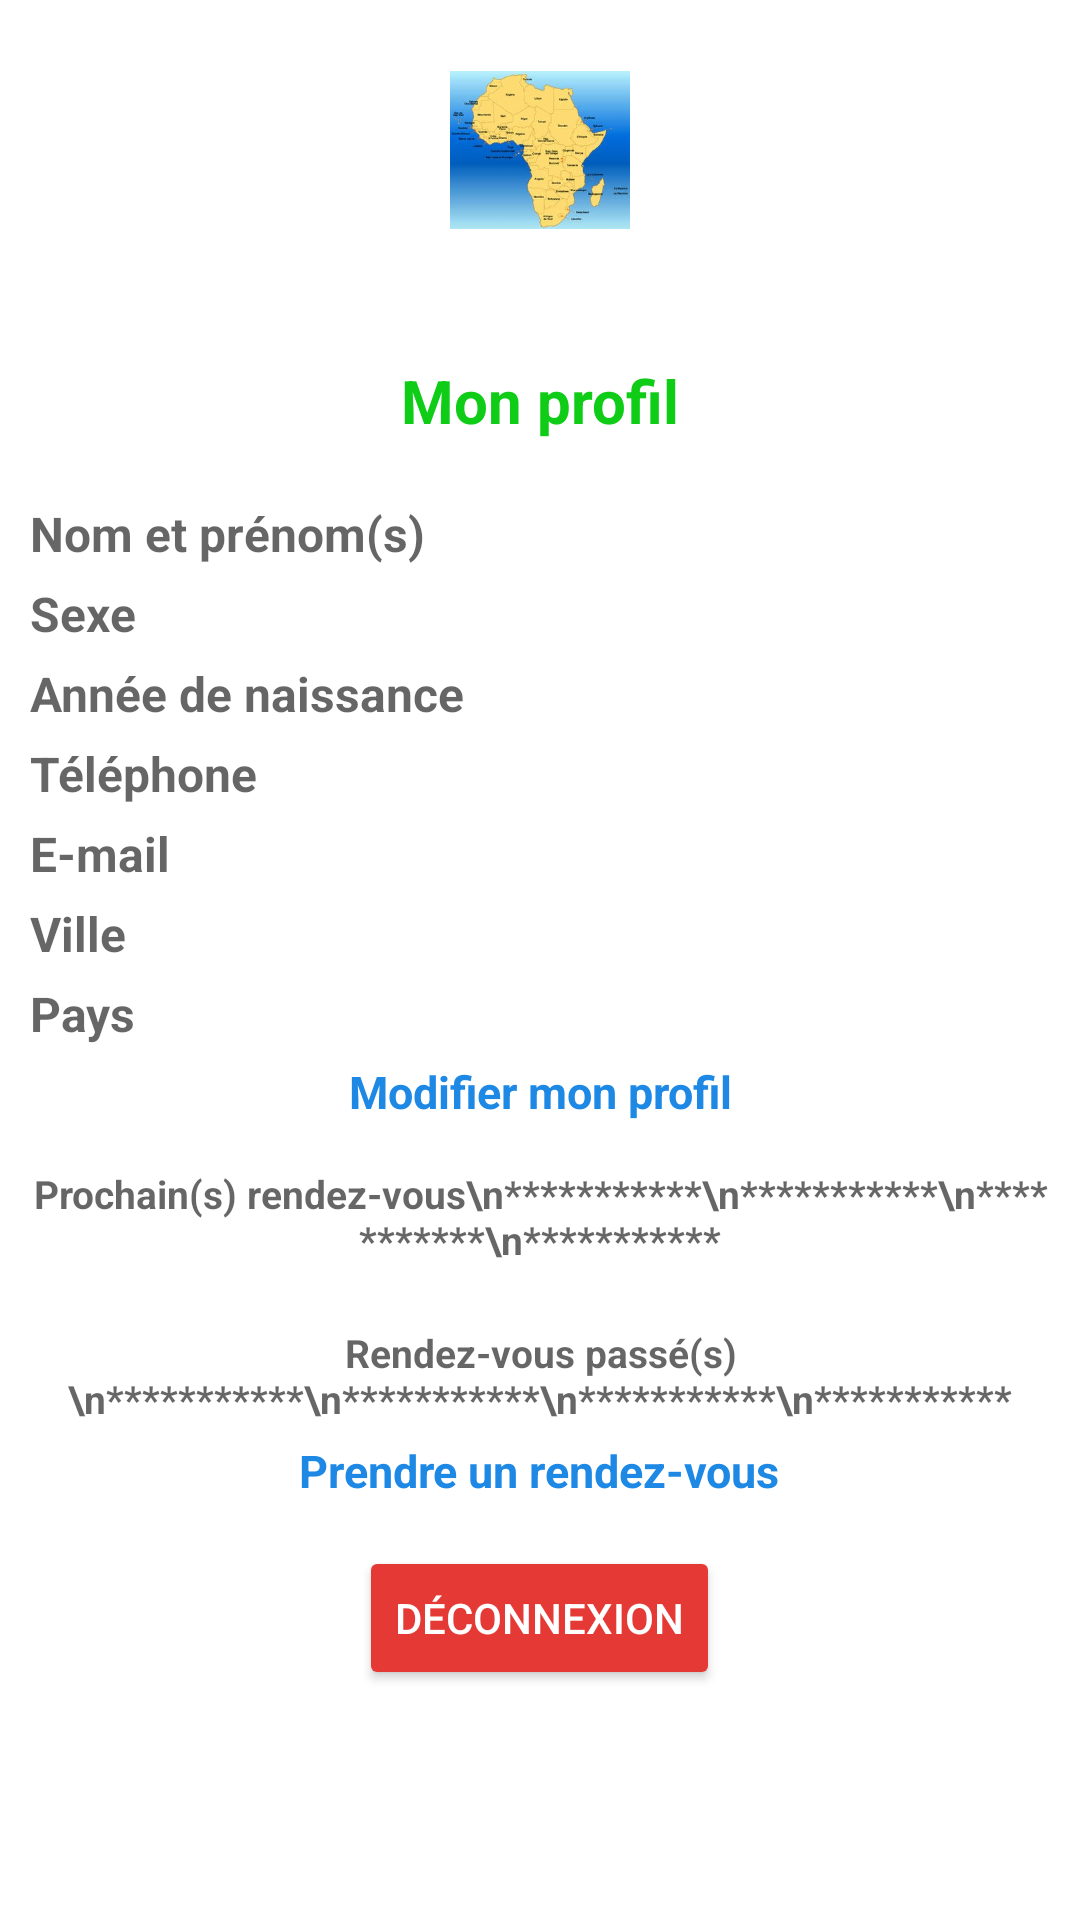

Icon bounding boxes for this 1080×1920 phone screenshot, format (x1, y1, x2, y2):
carte: (450, 71, 630, 229)
